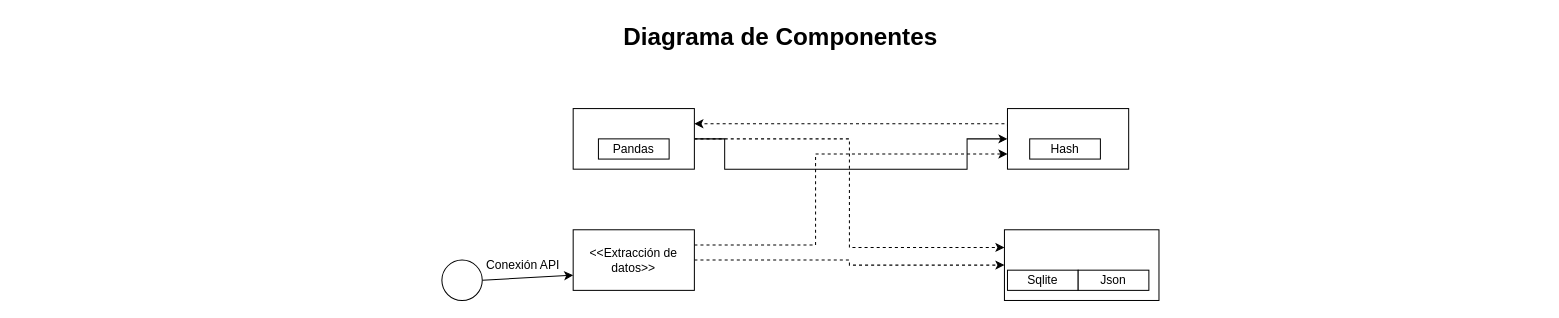
Some shapes in this 1559 by 318 pixel diagram are drawn without their labels. The box of each missing label's shape, as (x1, y1, x2, y2) in pixels:
<<Encriptación>>: (1006, 108, 1129, 169)
<<Generación de archivos>>: (1003, 229, 1159, 300)
<<Visualización>>: (572, 108, 694, 169)
